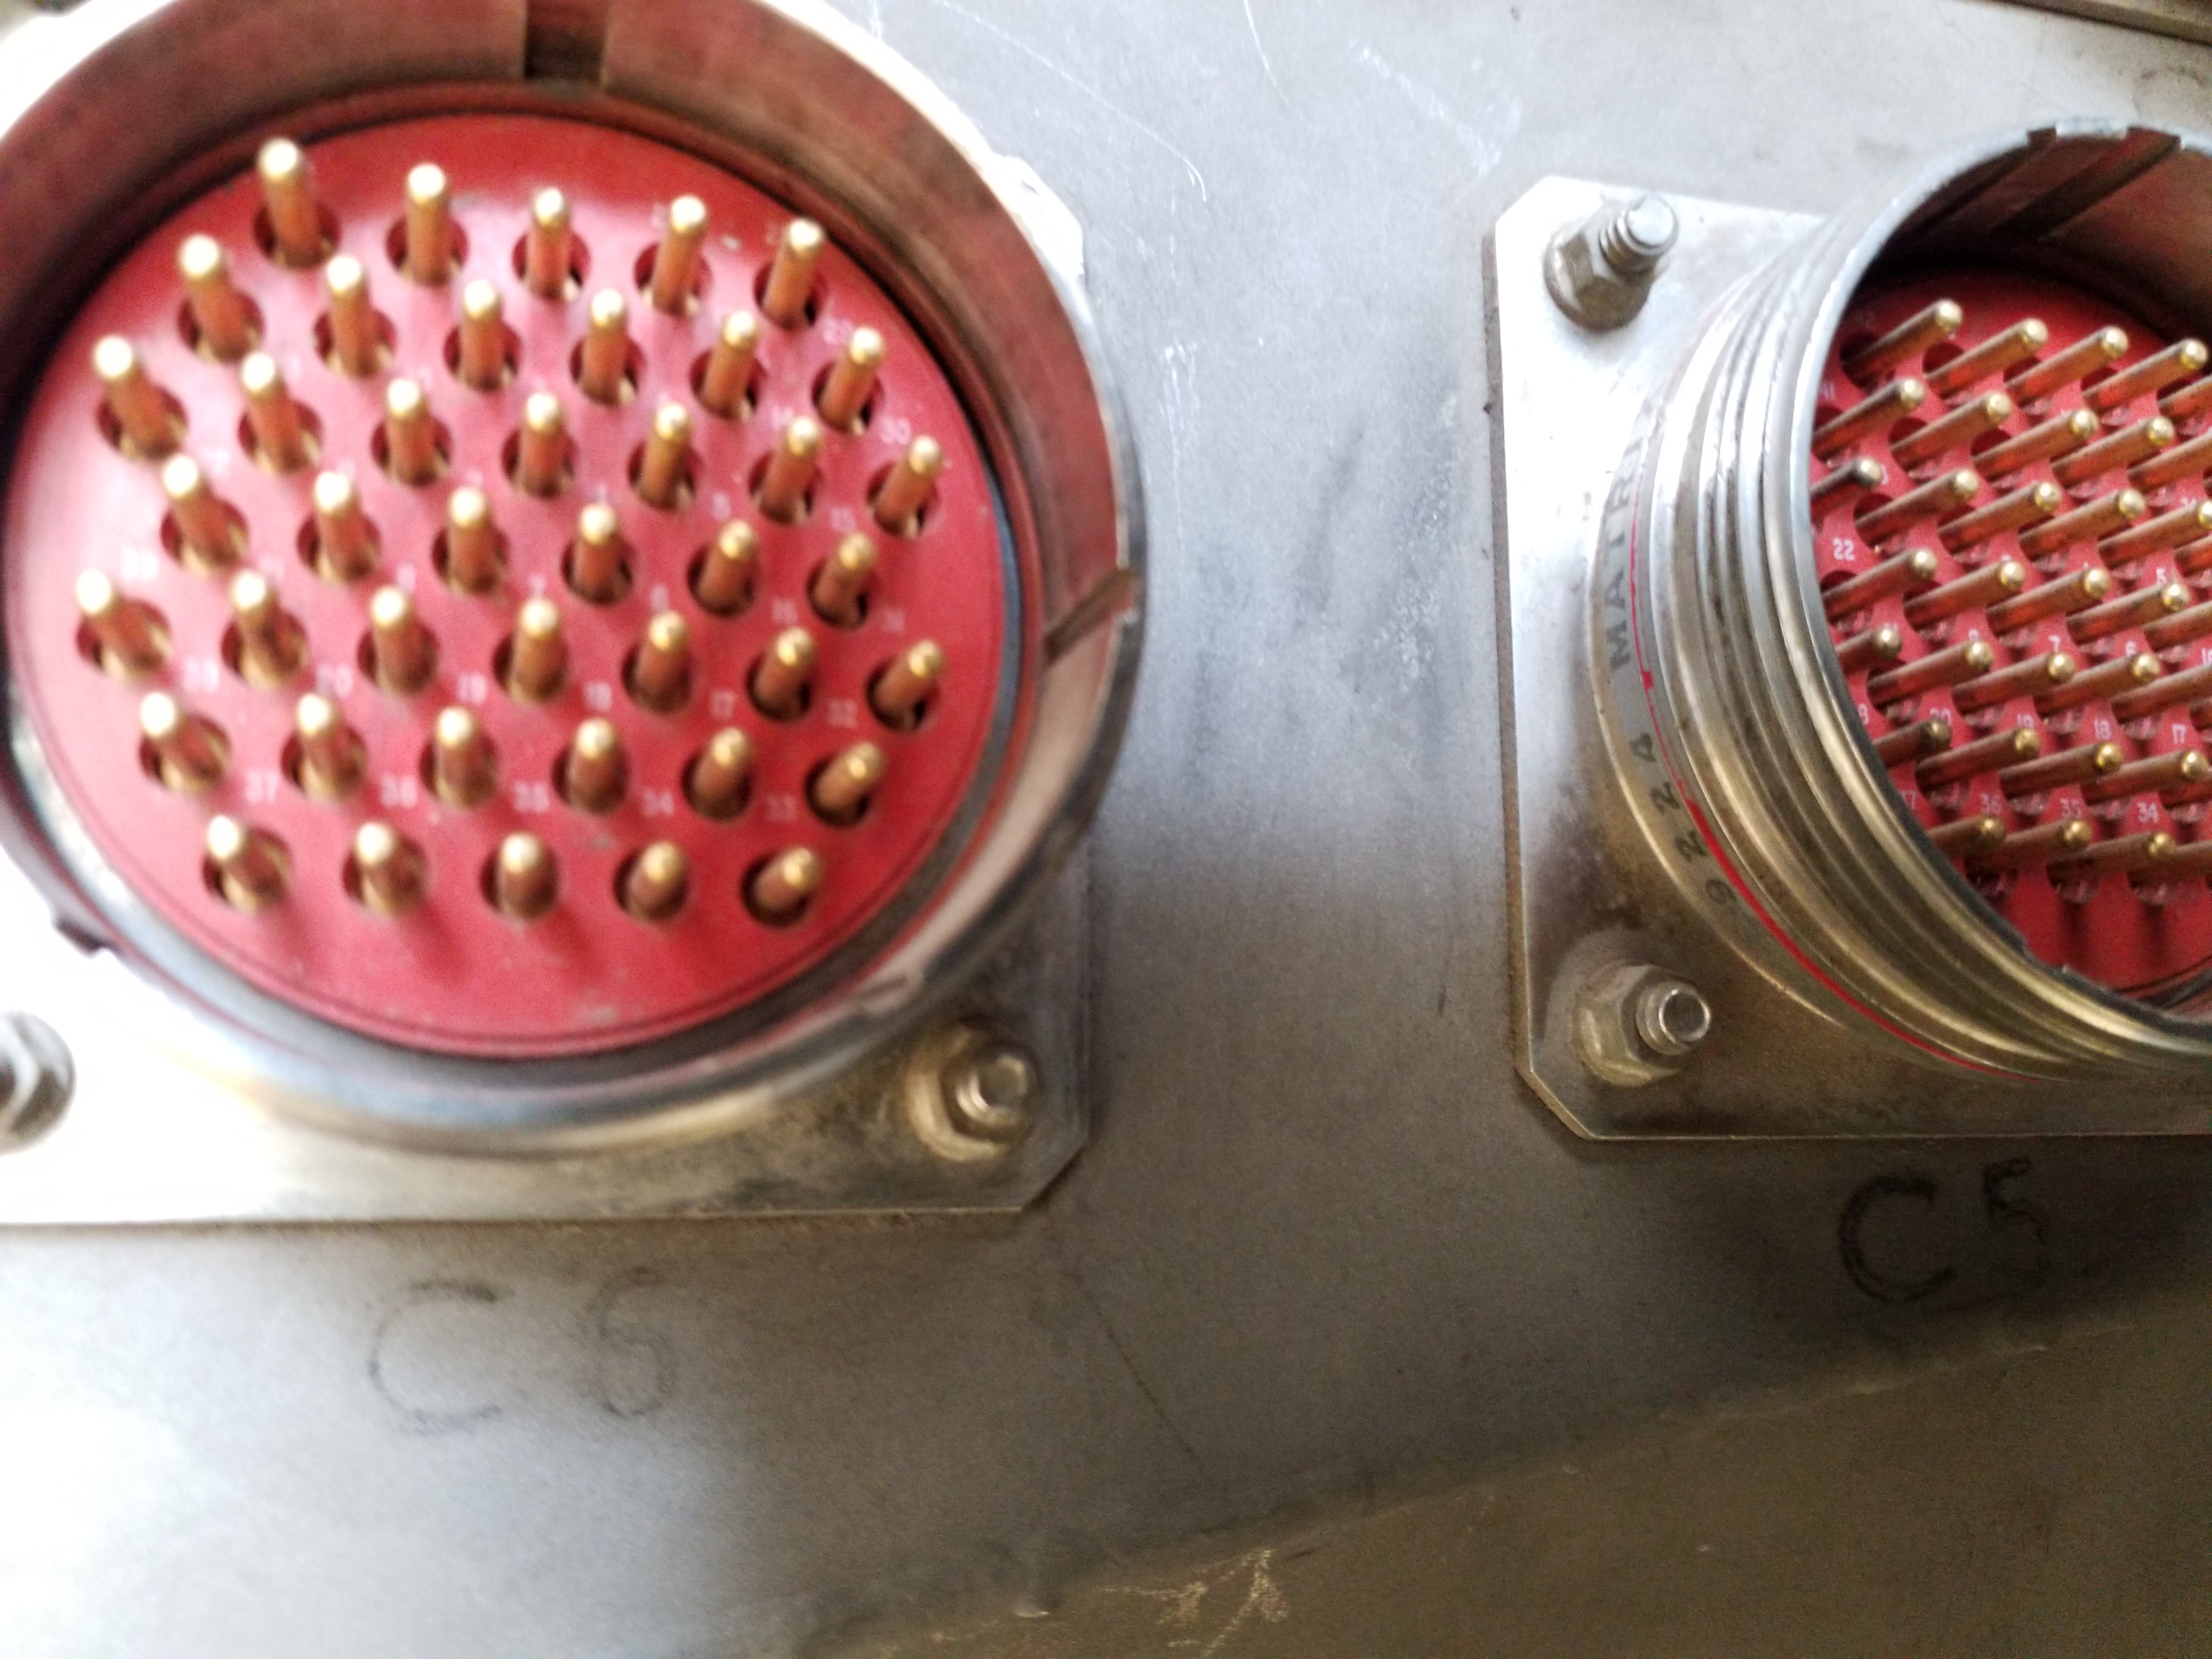outlet: (5, 16, 1099, 1119), (1656, 82, 2193, 1047)
